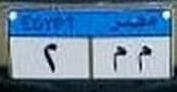2: (45, 44, 59, 73)
meem: (111, 46, 129, 73), (135, 45, 153, 71)
